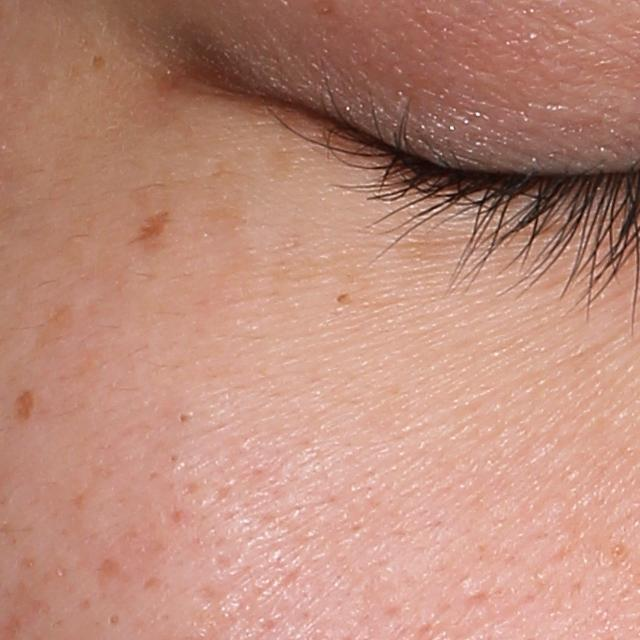comedo: (172, 413, 190, 427), (105, 615, 121, 630)
melasma: (30, 299, 79, 352), (127, 208, 173, 246), (11, 386, 36, 420), (84, 48, 113, 72)
